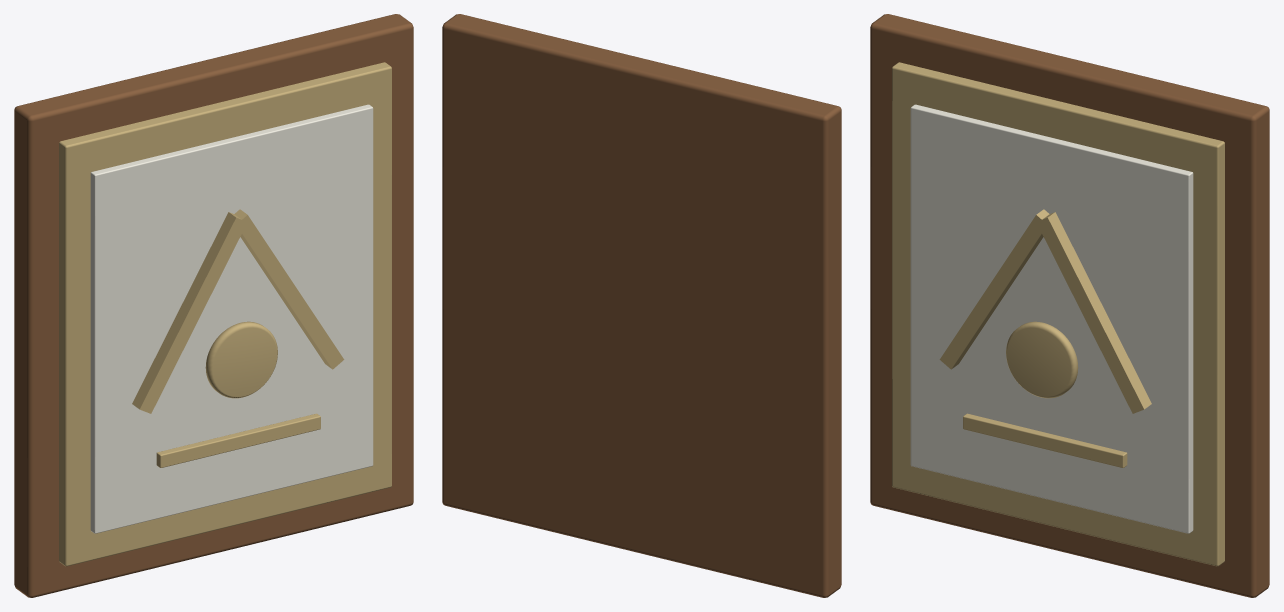
The model's file is tribunal_brasao.glb.
3 renders of one model, left to right at view 1: azimuth 30°, elevation 25°; view 2: azimuth 150°, elevation 25°; view 3: azimuth 330°, elevation 25°, orthographic.
Parts seen in each view (by area): view 1: city-courthouse-and-records-office-court-crest-plaque; view 2: city-courthouse-and-records-office-court-crest-plaque; view 3: city-courthouse-and-records-office-court-crest-plaque.
Boxes of the visible parts, x1,y1,x2,y2 form: city-courthouse-and-records-office-court-crest-plaque: (14,14,413,597); city-courthouse-and-records-office-court-crest-plaque: (442,14,841,597); city-courthouse-and-records-office-court-crest-plaque: (870,14,1269,597).
Bounding box in the file's own units: 0.7201 × 0.86 × 0.1275.
